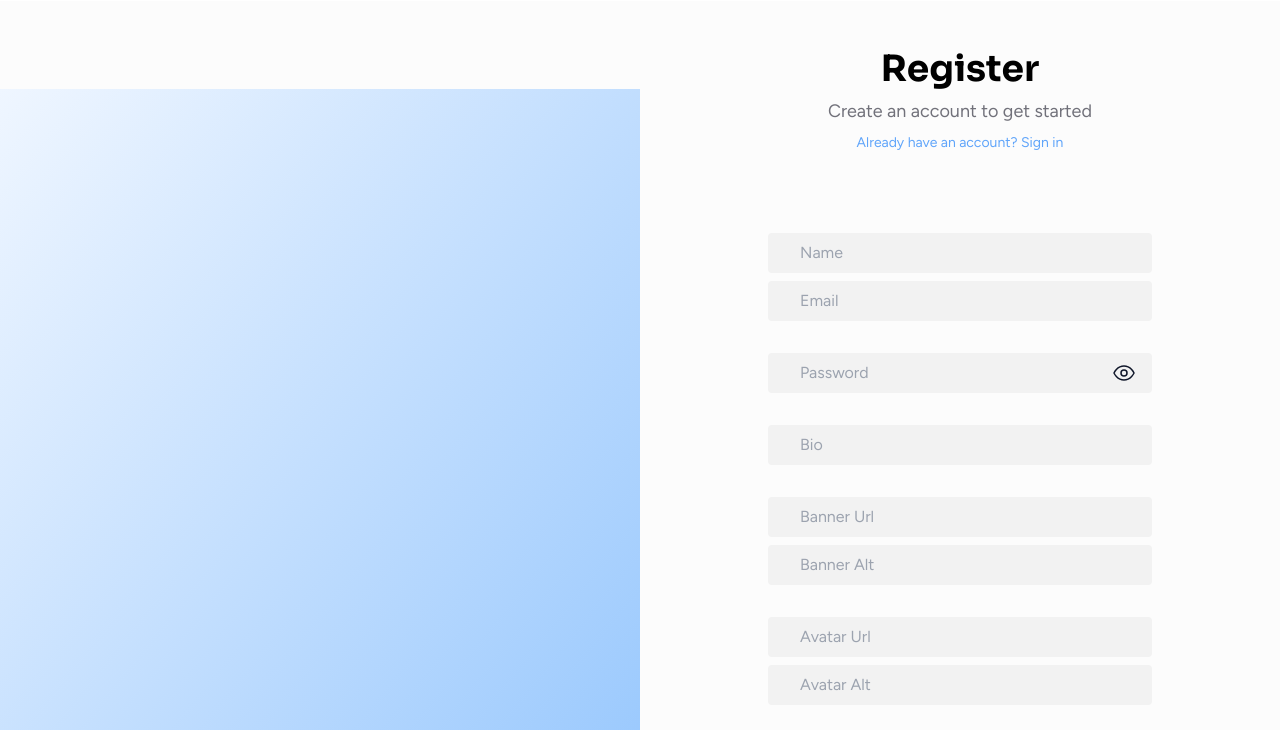
Test: Register Form Errors › should get error whith invalid bio
Type "Why are you looking at my tests >:((((( aaaaaaaaaaaaaaaaaaaaaaaaaaaaaaaaaaaaaaaaaaaaaaaaaaaaaaaaaaaaaaaaaaaaaaaaaaaaaaaaaaaaaaaaaaaaaaaaaaaaaaaaaaaaaaaaaaaaaaaaaaaaaaaaaaaaaaaaaaaaa" into the field with id "bio-input".
click(960, 445); type("Why are you looking at my tests >:((((( aaaaaaaaaaaaaaaaaaaaaaaaaaaaaaaaaaaaaaaaaaaaaaaaaaaaaaaaaaaaaaaaaaaaaaaaaaaaaaaaaaaaaaaaaaaaaaaaaaaaaaaaaaaaaaaaaaaaaaaaaaaaaaaaaaaaaaaaaaaaa")  # box left=768, top=425, right=1152, bottom=465
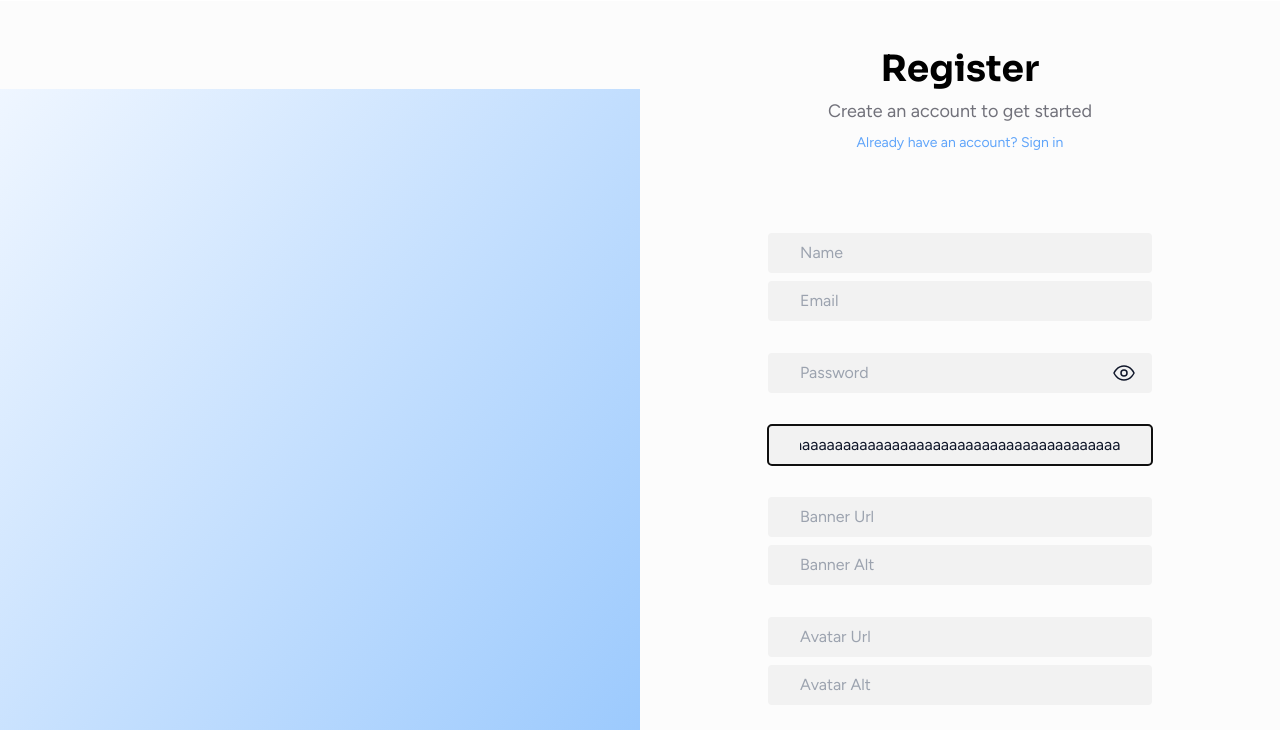
Scroll
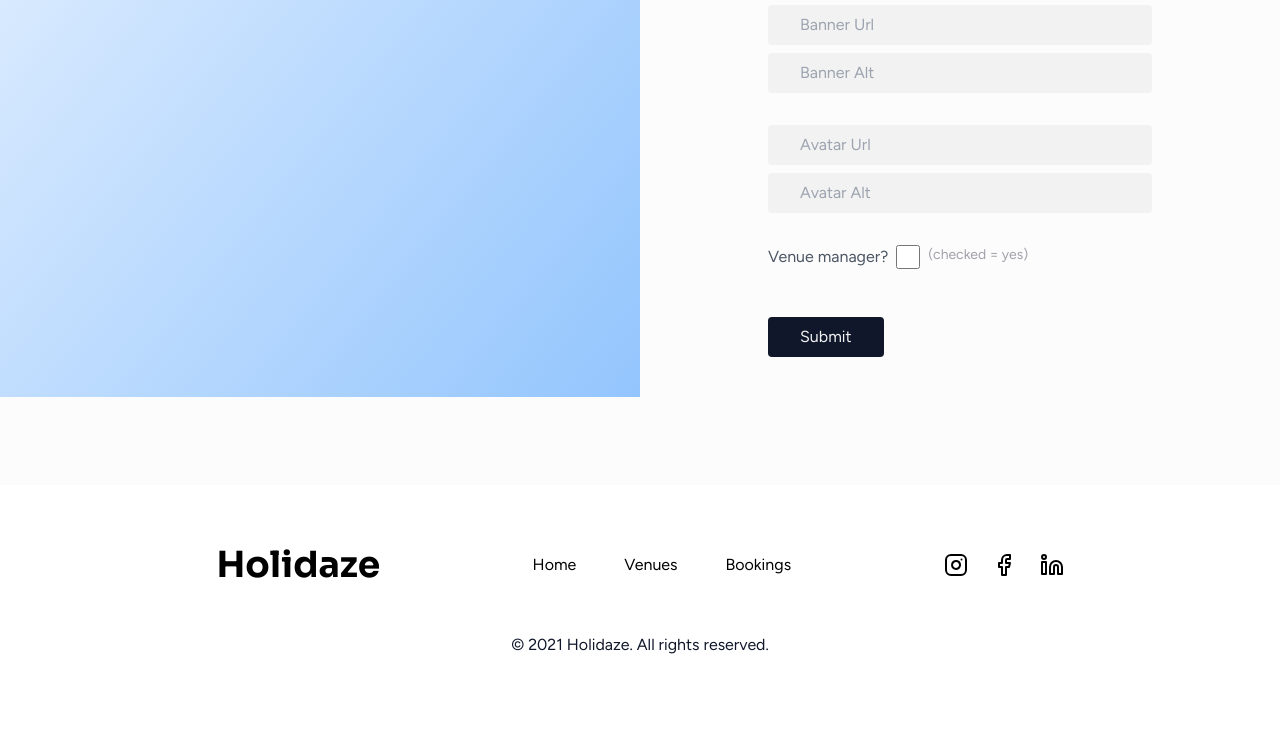
Click the button with id "submit-register-button".
click(826, 337)  # box left=768, top=317, right=884, bottom=357
(page scrolled)
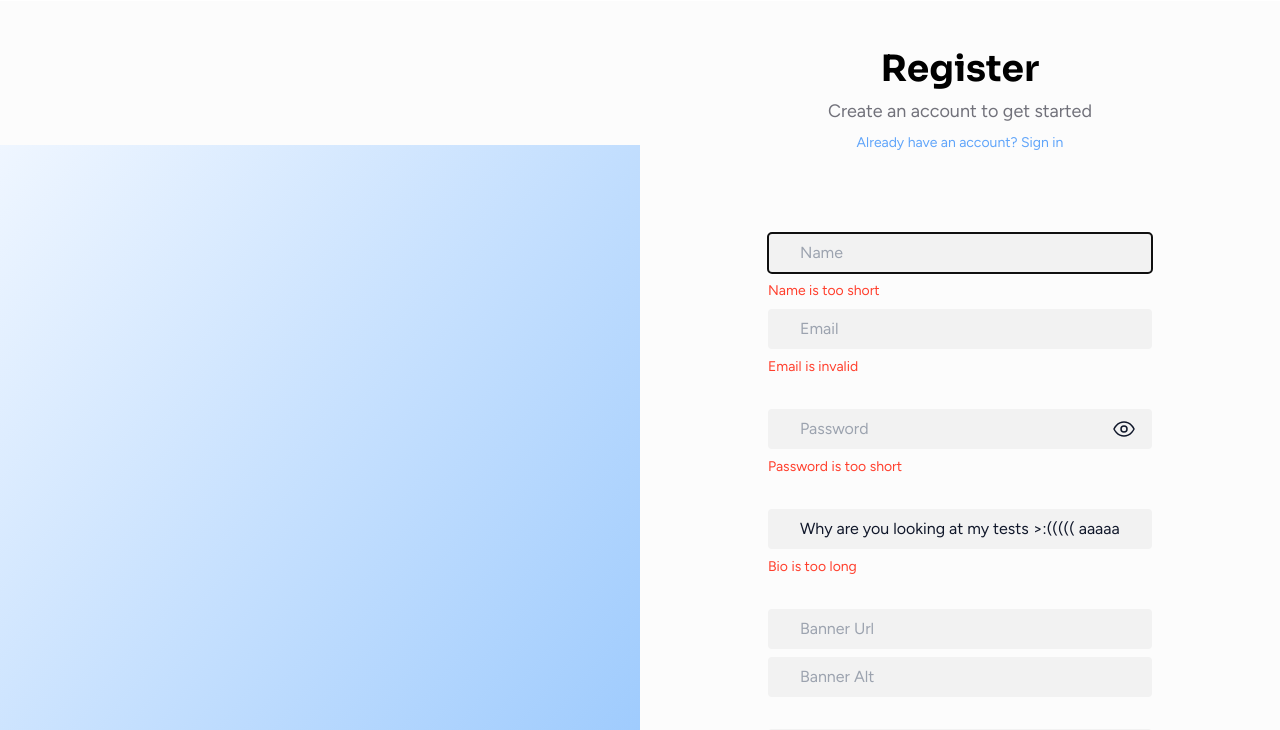
Check: the text "Bio is too long" is shown, box left=768, top=558, right=857, bottom=575
